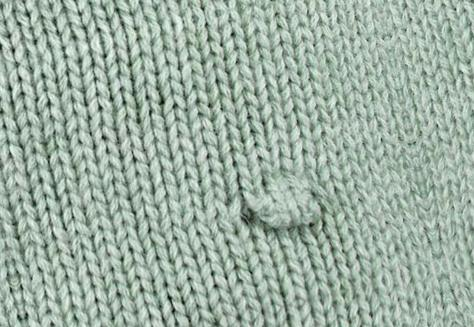knot: (236, 176, 335, 231)
